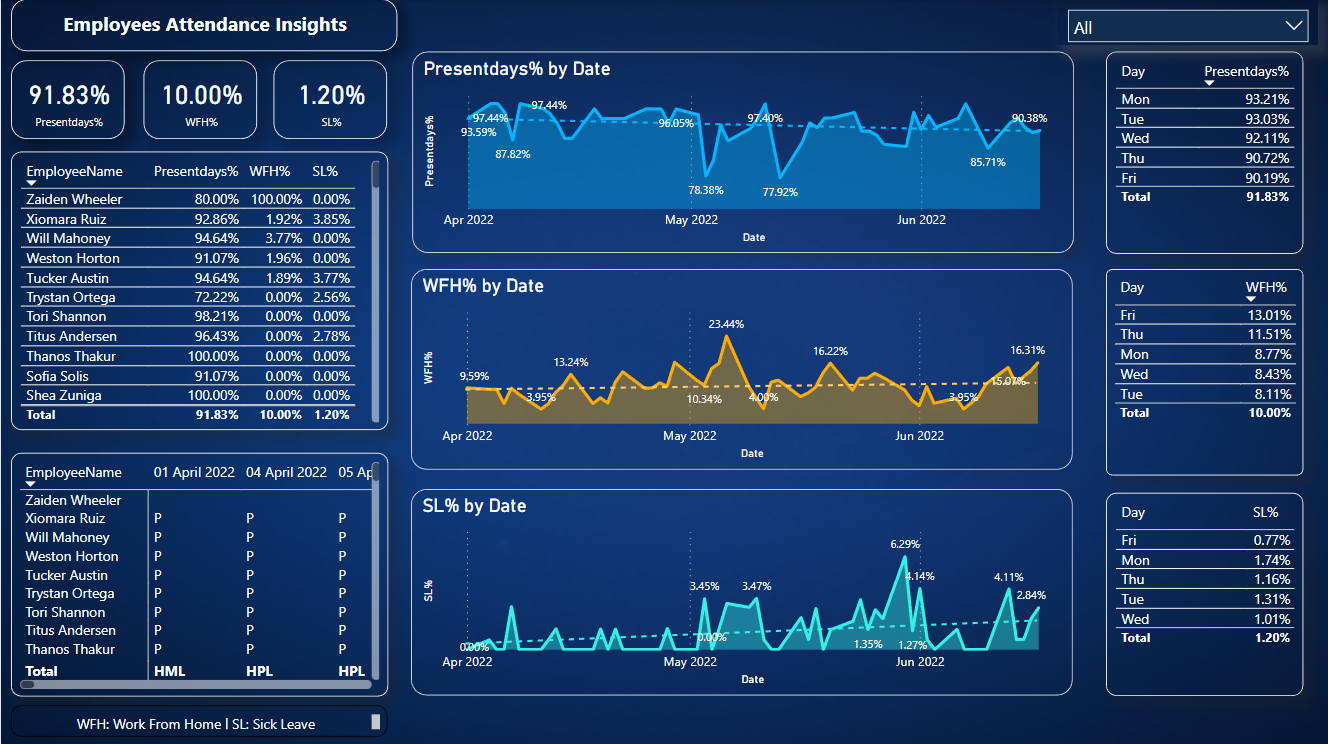

The page's visual inventory and layout, read from the dashboard file:
{"tool":"powerbi","page":{"name":"Page 1","canvas":[1280,720],"ordinal":0},"visuals":[{"type":"card","fields":{"Values":["Measure Table.Presentdays%"]},"box":[9.6,59.1,109.7,76],"z":0},{"type":"card","fields":{"Values":["Measure Table.WFH%"]},"box":[137.5,59.1,109.7,76],"z":1000},{"type":"card","fields":{"Values":["Measure Table.SL%"]},"box":[262.9,59.1,109.7,76],"z":2000},{"type":"tableEx","fields":{"Values":["Transformed Data.EmployeeName","Measure Table.Presentdays%","Measure Table.WFH%","Measure Table.SL%"]},"box":[9.6,147.1,364.2,268.9],"z":3000},{"type":"pivotTable","fields":{"Rows":["Transformed Data.EmployeeName"],"Values":["Transformed Data.Value"],"Columns":["Transformed Data.Date"]},"box":[9.6,437.8,364.2,235.2],"z":4000},{"type":"areaChart","fields":{"Category":["Transformed Data.Date"],"Y":["Measure Table.Presentdays%"]},"box":[396.5,50.1,638.6,194.8],"z":5000},{"type":"areaChart","fields":{"Category":["Transformed Data.Date"],"Y":["Measure Table.WFH%"]},"box":[395.2,260.7,638.1,193.5],"z":6000},{"type":"areaChart","fields":{"Category":["Transformed Data.Date"],"Y":["Measure Table.SL%"]},"box":[395.1,473,638.6,199],"z":7000},{"type":"tableEx","fields":{"Values":["Transformed Data.Day","Measure Table.Presentdays%"]},"box":[1066.1,50.7,190.6,195.4],"z":8000},{"type":"tableEx","fields":{"Values":["Transformed Data.Day","Measure Table.WFH%"]},"box":[1066.2,260.7,190.7,199],"z":9000},{"type":"tableEx","fields":{"Values":["Transformed Data.Day","Measure Table.SL%"]},"box":[1066.2,476.2,190.7,196.2],"z":10000},{"type":"textbox","box":[9.6,0,372.7,50.7],"z":11000},{"type":"slicer","fields":{"Values":["Transformed Data.Month"]},"box":[1019.1,0,252.1,44.6],"z":12000},{"type":"textbox","box":[9.6,681.4,363,30.2],"z":13000}]}

Visuals, with their boxes in screenshot pixels (x1, y1, x2, y2), scaled from the page's 1280x720 canvas onto the 1328x744 screenshot:
card - Measure Table.Presentdays%: (x1=10, y1=61, x2=124, y2=140)
card - Measure Table.WFH%: (x1=143, y1=61, x2=256, y2=140)
card - Measure Table.SL%: (x1=273, y1=61, x2=387, y2=140)
tableEx - Transformed Data.EmployeeName x Measure Table.Presentdays%: (x1=10, y1=152, x2=388, y2=430)
pivotTable - Transformed Data.EmployeeName x Transformed Data.Value: (x1=10, y1=452, x2=388, y2=695)
areaChart - Transformed Data.Date x Measure Table.Presentdays%: (x1=411, y1=52, x2=1074, y2=253)
areaChart - Transformed Data.Date x Measure Table.WFH%: (x1=410, y1=269, x2=1072, y2=469)
areaChart - Transformed Data.Date x Measure Table.SL%: (x1=410, y1=489, x2=1072, y2=694)
tableEx - Transformed Data.Day x Measure Table.Presentdays%: (x1=1106, y1=52, x2=1304, y2=254)
tableEx - Transformed Data.Day x Measure Table.WFH%: (x1=1106, y1=269, x2=1304, y2=475)
tableEx - Transformed Data.Day x Measure Table.SL%: (x1=1106, y1=492, x2=1304, y2=695)
textbox: (x1=10, y1=0, x2=397, y2=52)
slicer - Transformed Data.Month: (x1=1057, y1=0, x2=1319, y2=46)
textbox: (x1=10, y1=704, x2=387, y2=735)
